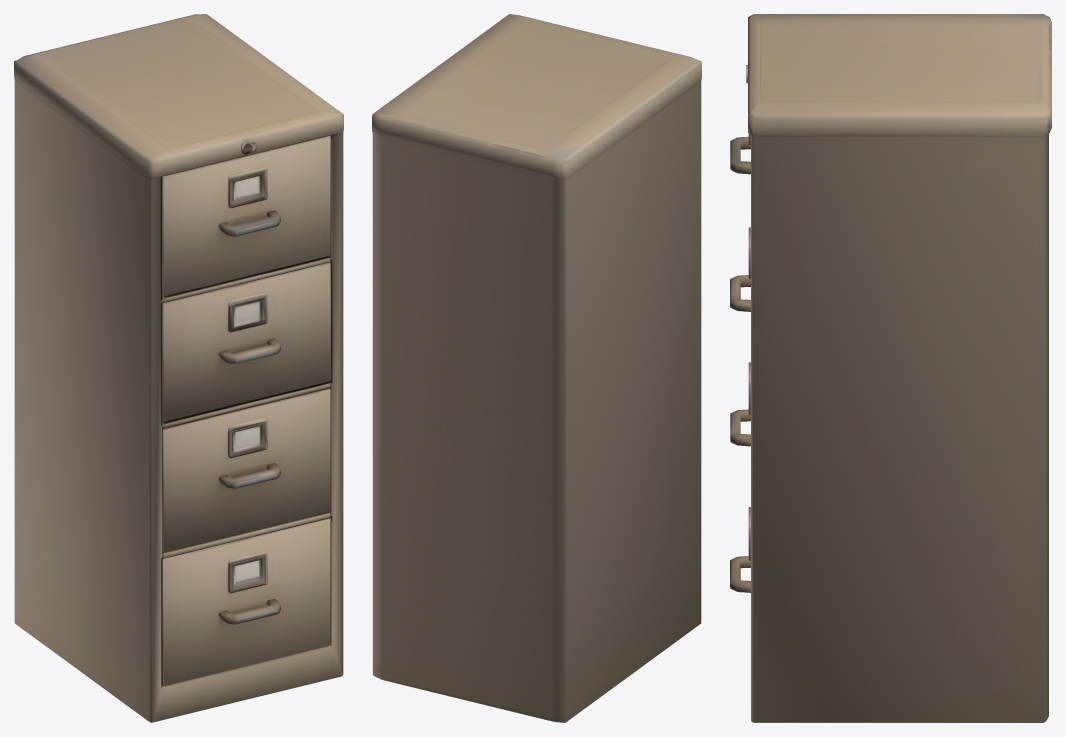
Rendered from tall_filing_cabinet_78ed2fea_v2.glb.
3 views of the same model, side by side, from view 1: azimuth 30°, elevation 25°; view 2: azimuth 150°, elevation 25°; view 3: azimuth 270°, elevation 25° (orthographic). The views are drawn at different scales.
Visible parts, largest first — view 1: material; view 2: material; view 3: material.
Boxes of the visible parts, <box> form: material: <box>14,14,343,722</box>; material: <box>372,14,701,722</box>; material: <box>730,14,1051,722</box>.
Bounding box in the file's own units: 0.6854 × 1.9 × 0.9059.
Materials: 1 (1 with a texture image).
